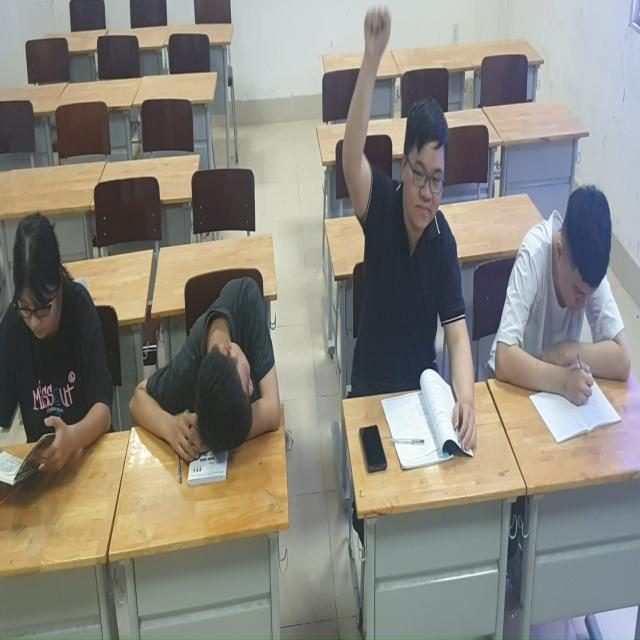raise_hand: (338, 1, 478, 462)
read: (499, 157, 636, 441), (1, 204, 128, 502)
sleep: (142, 282, 299, 488)
